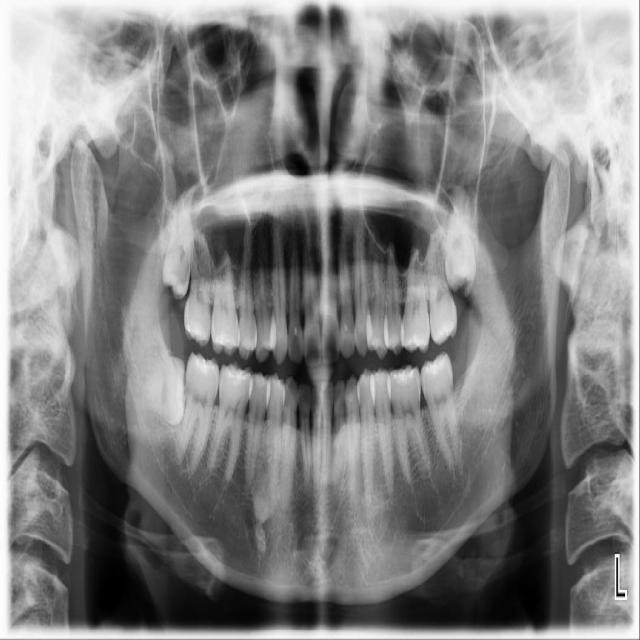Periapical lesion: (412, 477, 440, 522), (252, 480, 280, 523), (453, 464, 469, 491)
impacted tooth: (122, 353, 187, 422), (163, 182, 199, 300), (445, 183, 478, 289)
